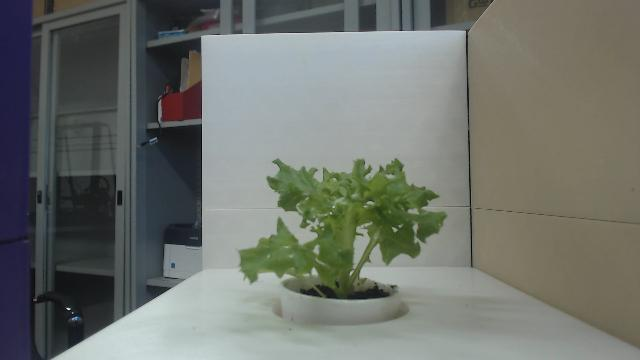Vegetative Stage: (237, 156, 448, 302)
